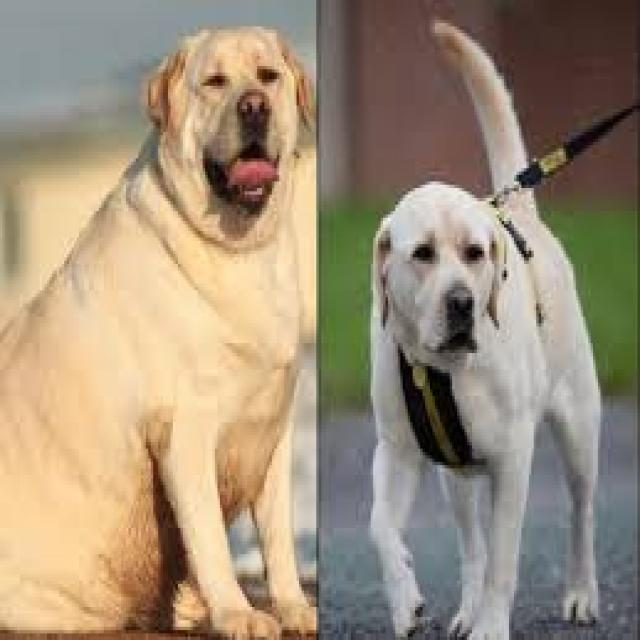dog: (1, 25, 316, 640), (372, 21, 602, 640)
